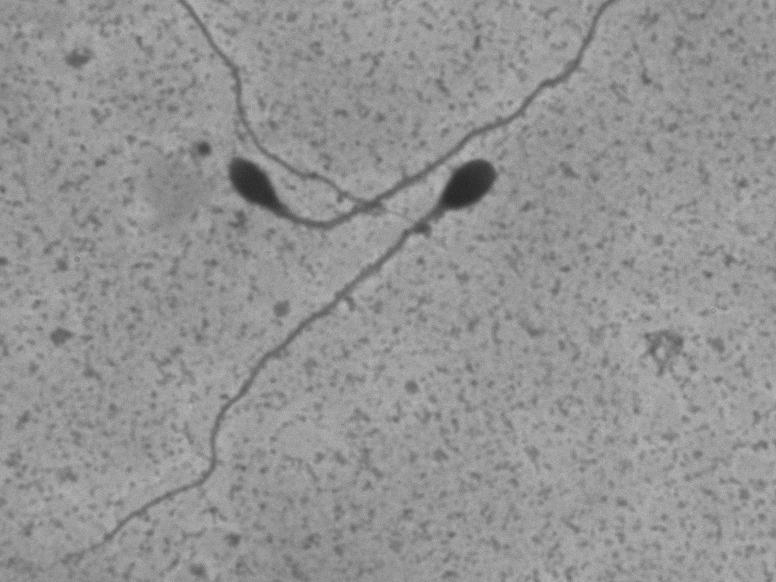Abnormal: (212, 3, 619, 240)
Normal: (52, 144, 522, 572)
